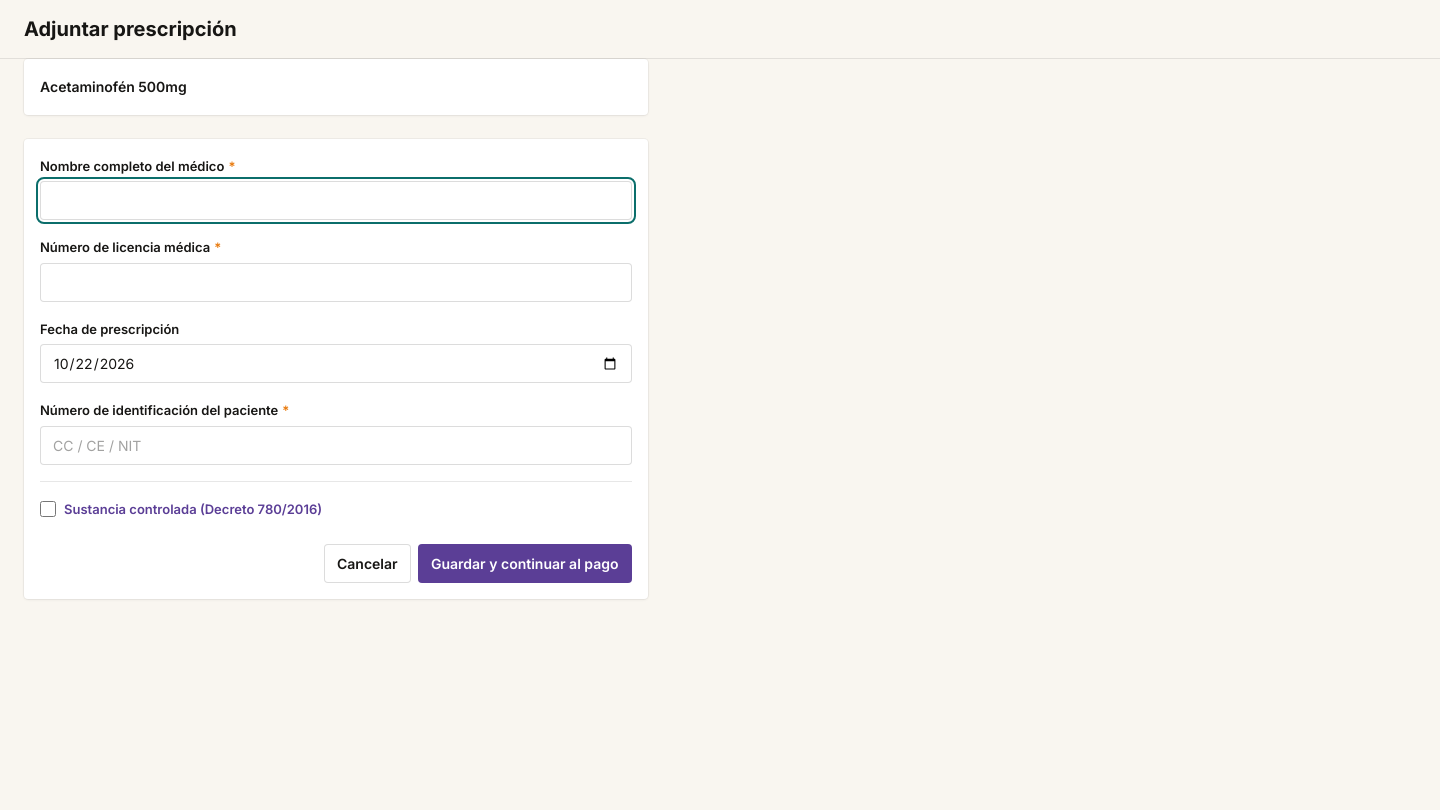
it: PrescriptionsPage › PRXP-02: controlled substance fields › shows book entry and page fields when checked
Step 1. Click the checkbox labelled "Sustancia controlada (Decreto 780/2016)" → (48, 509), box left=40, top=501, right=56, bottom=517
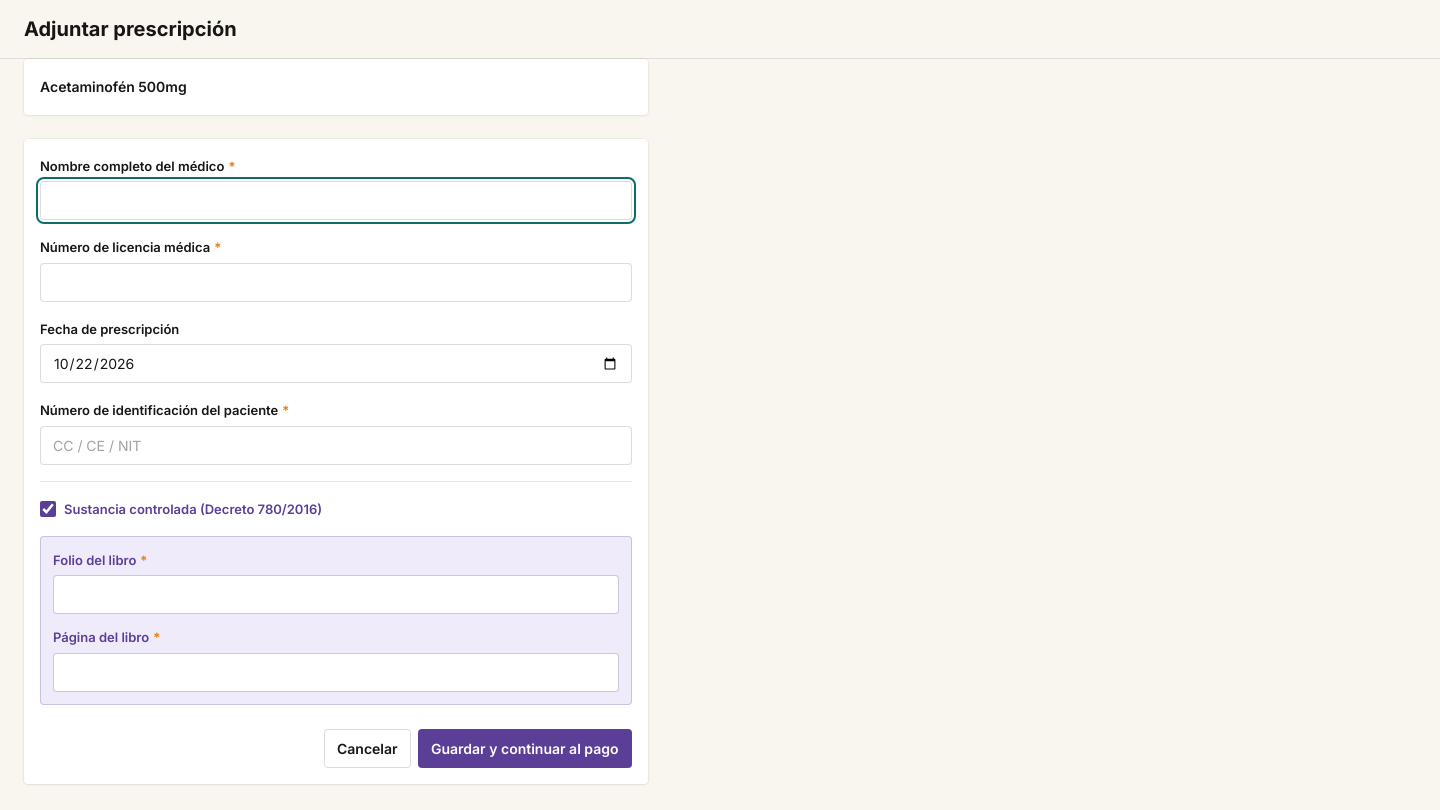
Check: the field labelled "Folio del libro*" is shown, box left=53, top=575, right=619, bottom=614
Check: the field labelled "Página del libro*" is shown, box left=53, top=653, right=619, bottom=692
